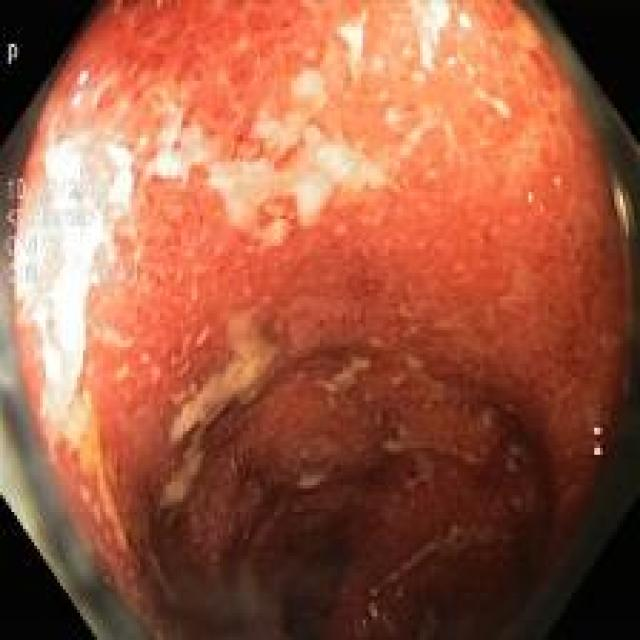ulcerative-colitis-grade-2-3: (0, 3, 638, 637)
